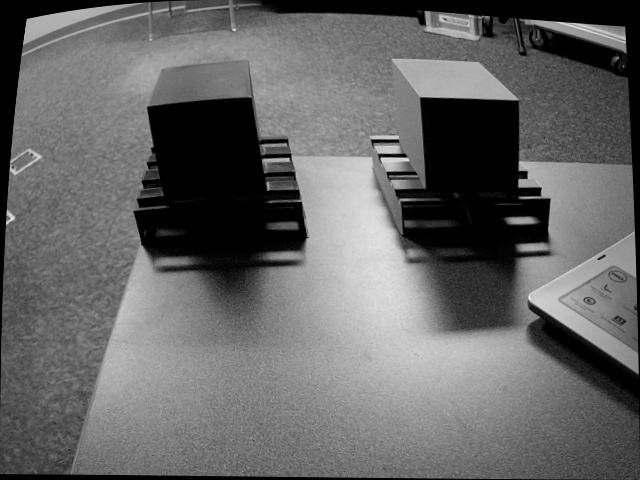black pallet: (130, 49, 311, 249)
grey pallet: (363, 55, 561, 249)
